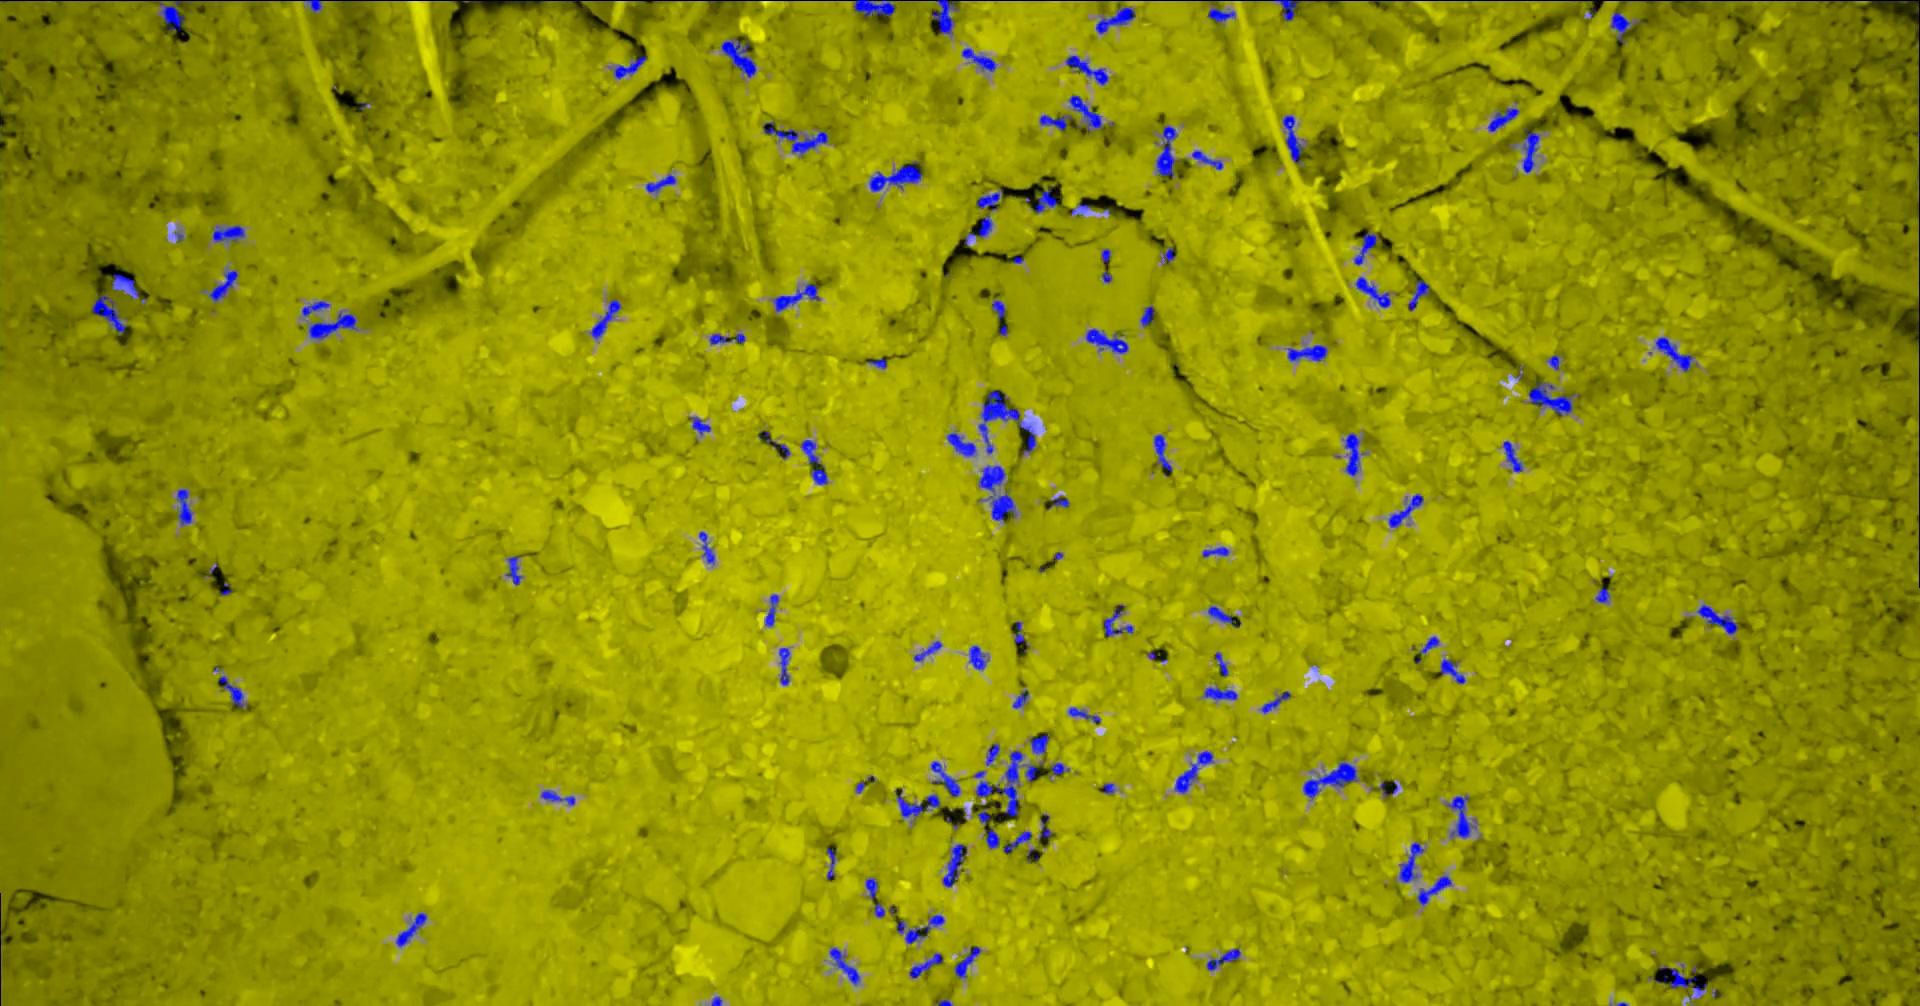ant: (977, 390, 1035, 453), (762, 121, 827, 155), (978, 465, 1015, 521), (1302, 761, 1357, 798), (143, 0, 204, 30), (869, 160, 922, 191), (1175, 751, 1211, 793), (1528, 381, 1571, 417), (720, 38, 756, 77), (91, 293, 126, 333), (897, 915, 943, 942), (894, 788, 938, 817), (589, 298, 621, 339), (773, 283, 819, 311), (1655, 337, 1691, 371), (1065, 55, 1107, 84), (1068, 95, 1102, 131), (1388, 493, 1423, 527), (309, 312, 356, 338), (1697, 605, 1737, 634), (1448, 795, 1476, 837), (1355, 276, 1390, 307), (1156, 126, 1177, 177), (1084, 328, 1128, 353), (1095, 6, 1135, 33), (829, 948, 858, 984), (395, 912, 425, 946), (942, 843, 966, 887), (930, 761, 959, 796), (1417, 875, 1451, 904), (1398, 842, 1423, 882), (931, 0, 959, 34), (1655, 965, 1697, 988), (1352, 232, 1382, 264), (1102, 605, 1131, 636), (218, 674, 246, 708), (1283, 116, 1302, 163), (208, 271, 237, 301), (757, 431, 789, 459), (1343, 433, 1364, 475), (954, 946, 980, 978), (909, 953, 942, 977), (961, 48, 996, 71), (613, 55, 646, 77), (1206, 948, 1239, 970), (1153, 434, 1171, 476), (1487, 107, 1517, 131), (1523, 127, 1539, 171), (110, 272, 138, 297), (853, 0, 895, 17), (946, 432, 975, 455), (1407, 279, 1429, 310), (1260, 691, 1290, 713), (1610, 11, 1630, 43), (1031, 188, 1057, 213), (1003, 831, 1031, 854), (1208, 605, 1237, 626), (1439, 659, 1464, 683), (1503, 439, 1523, 471), (1272, 0, 1302, 20), (1191, 150, 1222, 169), (1288, 344, 1326, 359), (913, 640, 941, 661), (968, 215, 992, 238), (977, 188, 1002, 210), (645, 174, 676, 192), (212, 225, 244, 241), (1039, 114, 1073, 130), (177, 488, 190, 525), (698, 531, 714, 564), (541, 790, 574, 805), (1067, 708, 1100, 721), (505, 555, 521, 584), (764, 594, 778, 626), (301, 300, 329, 315), (709, 333, 744, 344), (801, 439, 818, 464), (969, 645, 985, 669), (1203, 687, 1237, 699), (1208, 8, 1236, 22), (1015, 621, 1027, 652), (778, 647, 789, 685), (690, 417, 710, 434), (1030, 733, 1048, 753), (1037, 814, 1051, 840), (1418, 635, 1437, 653), (825, 847, 836, 879), (810, 465, 827, 484), (1012, 688, 1029, 708), (1214, 652, 1227, 676), (985, 743, 999, 765), (985, 827, 999, 848), (1140, 306, 1154, 326), (990, 298, 1004, 318), (1203, 546, 1228, 556), (865, 878, 877, 898), (1050, 495, 1069, 507), (1595, 587, 1609, 602), (977, 808, 989, 824), (1050, 762, 1068, 774), (867, 358, 886, 368), (305, 0, 321, 11), (1162, 246, 1175, 260), (872, 903, 884, 917), (1548, 354, 1558, 370), (1100, 782, 1114, 793)
